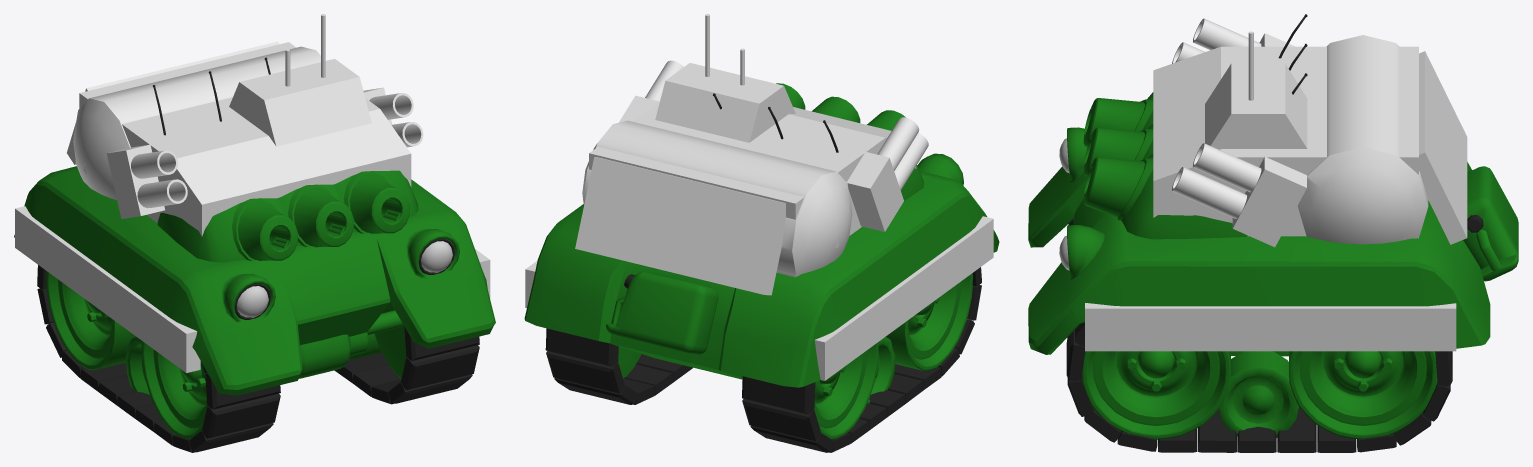
3 renders of one model, left to right at view 1: azimuth 30°, elevation 25°; view 2: azimuth 150°, elevation 25°; view 3: azimuth 270°, elevation 25°, orthographic. The views are drawn at different scales.
Parts seen in each view (by area): view 1: Box001, TankChassis, TankTracksRight, TankTracksLeft, TankTurret, TankTurret002, TankTurret001; view 2: Box001, TankChassis, TankTracksRight, TankTracksLeft, TankTurret, TankTurret001; view 3: Box001, TankChassis, TankTracksLeft, TankTurret002, TankTurret, TankTurret001.
Part boxes in pixels (left/top/right/bottom): Box001: left=15, top=14, right=490, bottom=372; TankChassis: left=14, top=166, right=495, bottom=404; TankTracksRight: left=37, top=265, right=280, bottom=452; TankTracksLeft: left=334, top=302, right=479, bottom=404; TankTurret: left=153, top=85, right=297, bottom=262; TankTurret002: left=264, top=57, right=418, bottom=233; TankTurret001: left=208, top=71, right=353, bottom=247; Box001: left=525, top=14, right=993, bottom=380; TankChassis: left=524, top=153, right=999, bottom=403; TankTracksRight: left=742, top=267, right=981, bottom=452; TankTracksLeft: left=545, top=328, right=692, bottom=404; TankTurret: left=823, top=110, right=923, bottom=200; TankTurret001: left=768, top=96, right=860, bottom=139; Box001: left=1085, top=18, right=1467, bottom=351; TankChassis: left=1028, top=127, right=1518, bottom=437; TankTracksLeft: left=1066, top=322, right=1452, bottom=452; TankTurret002: left=1083, top=73, right=1307, bottom=239; TankTurret: left=1083, top=14, right=1307, bottom=146; TankTurret001: left=1083, top=43, right=1307, bottom=176.
Bounding box in the file's own units: 142 × 158 × 183.
